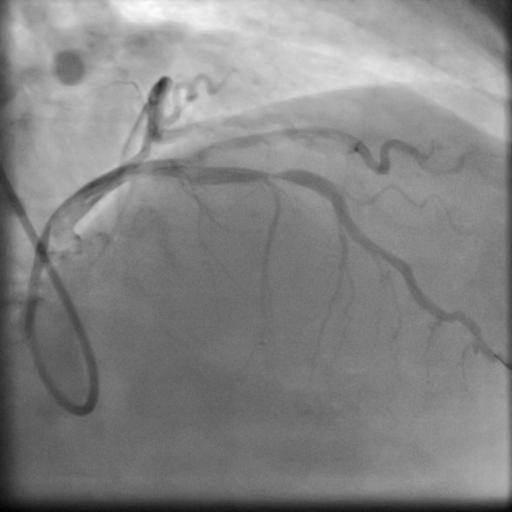Stenosis: (258, 162, 289, 187)
